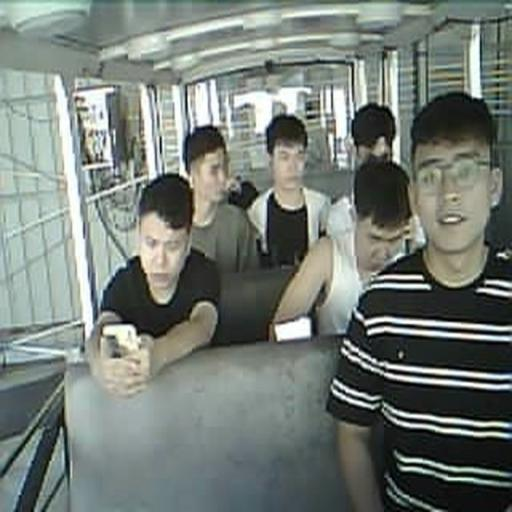persona: (326, 91, 511, 511), (86, 172, 221, 398), (268, 159, 414, 342), (320, 102, 426, 248), (246, 113, 332, 270), (182, 124, 260, 274), (225, 126, 261, 214)
